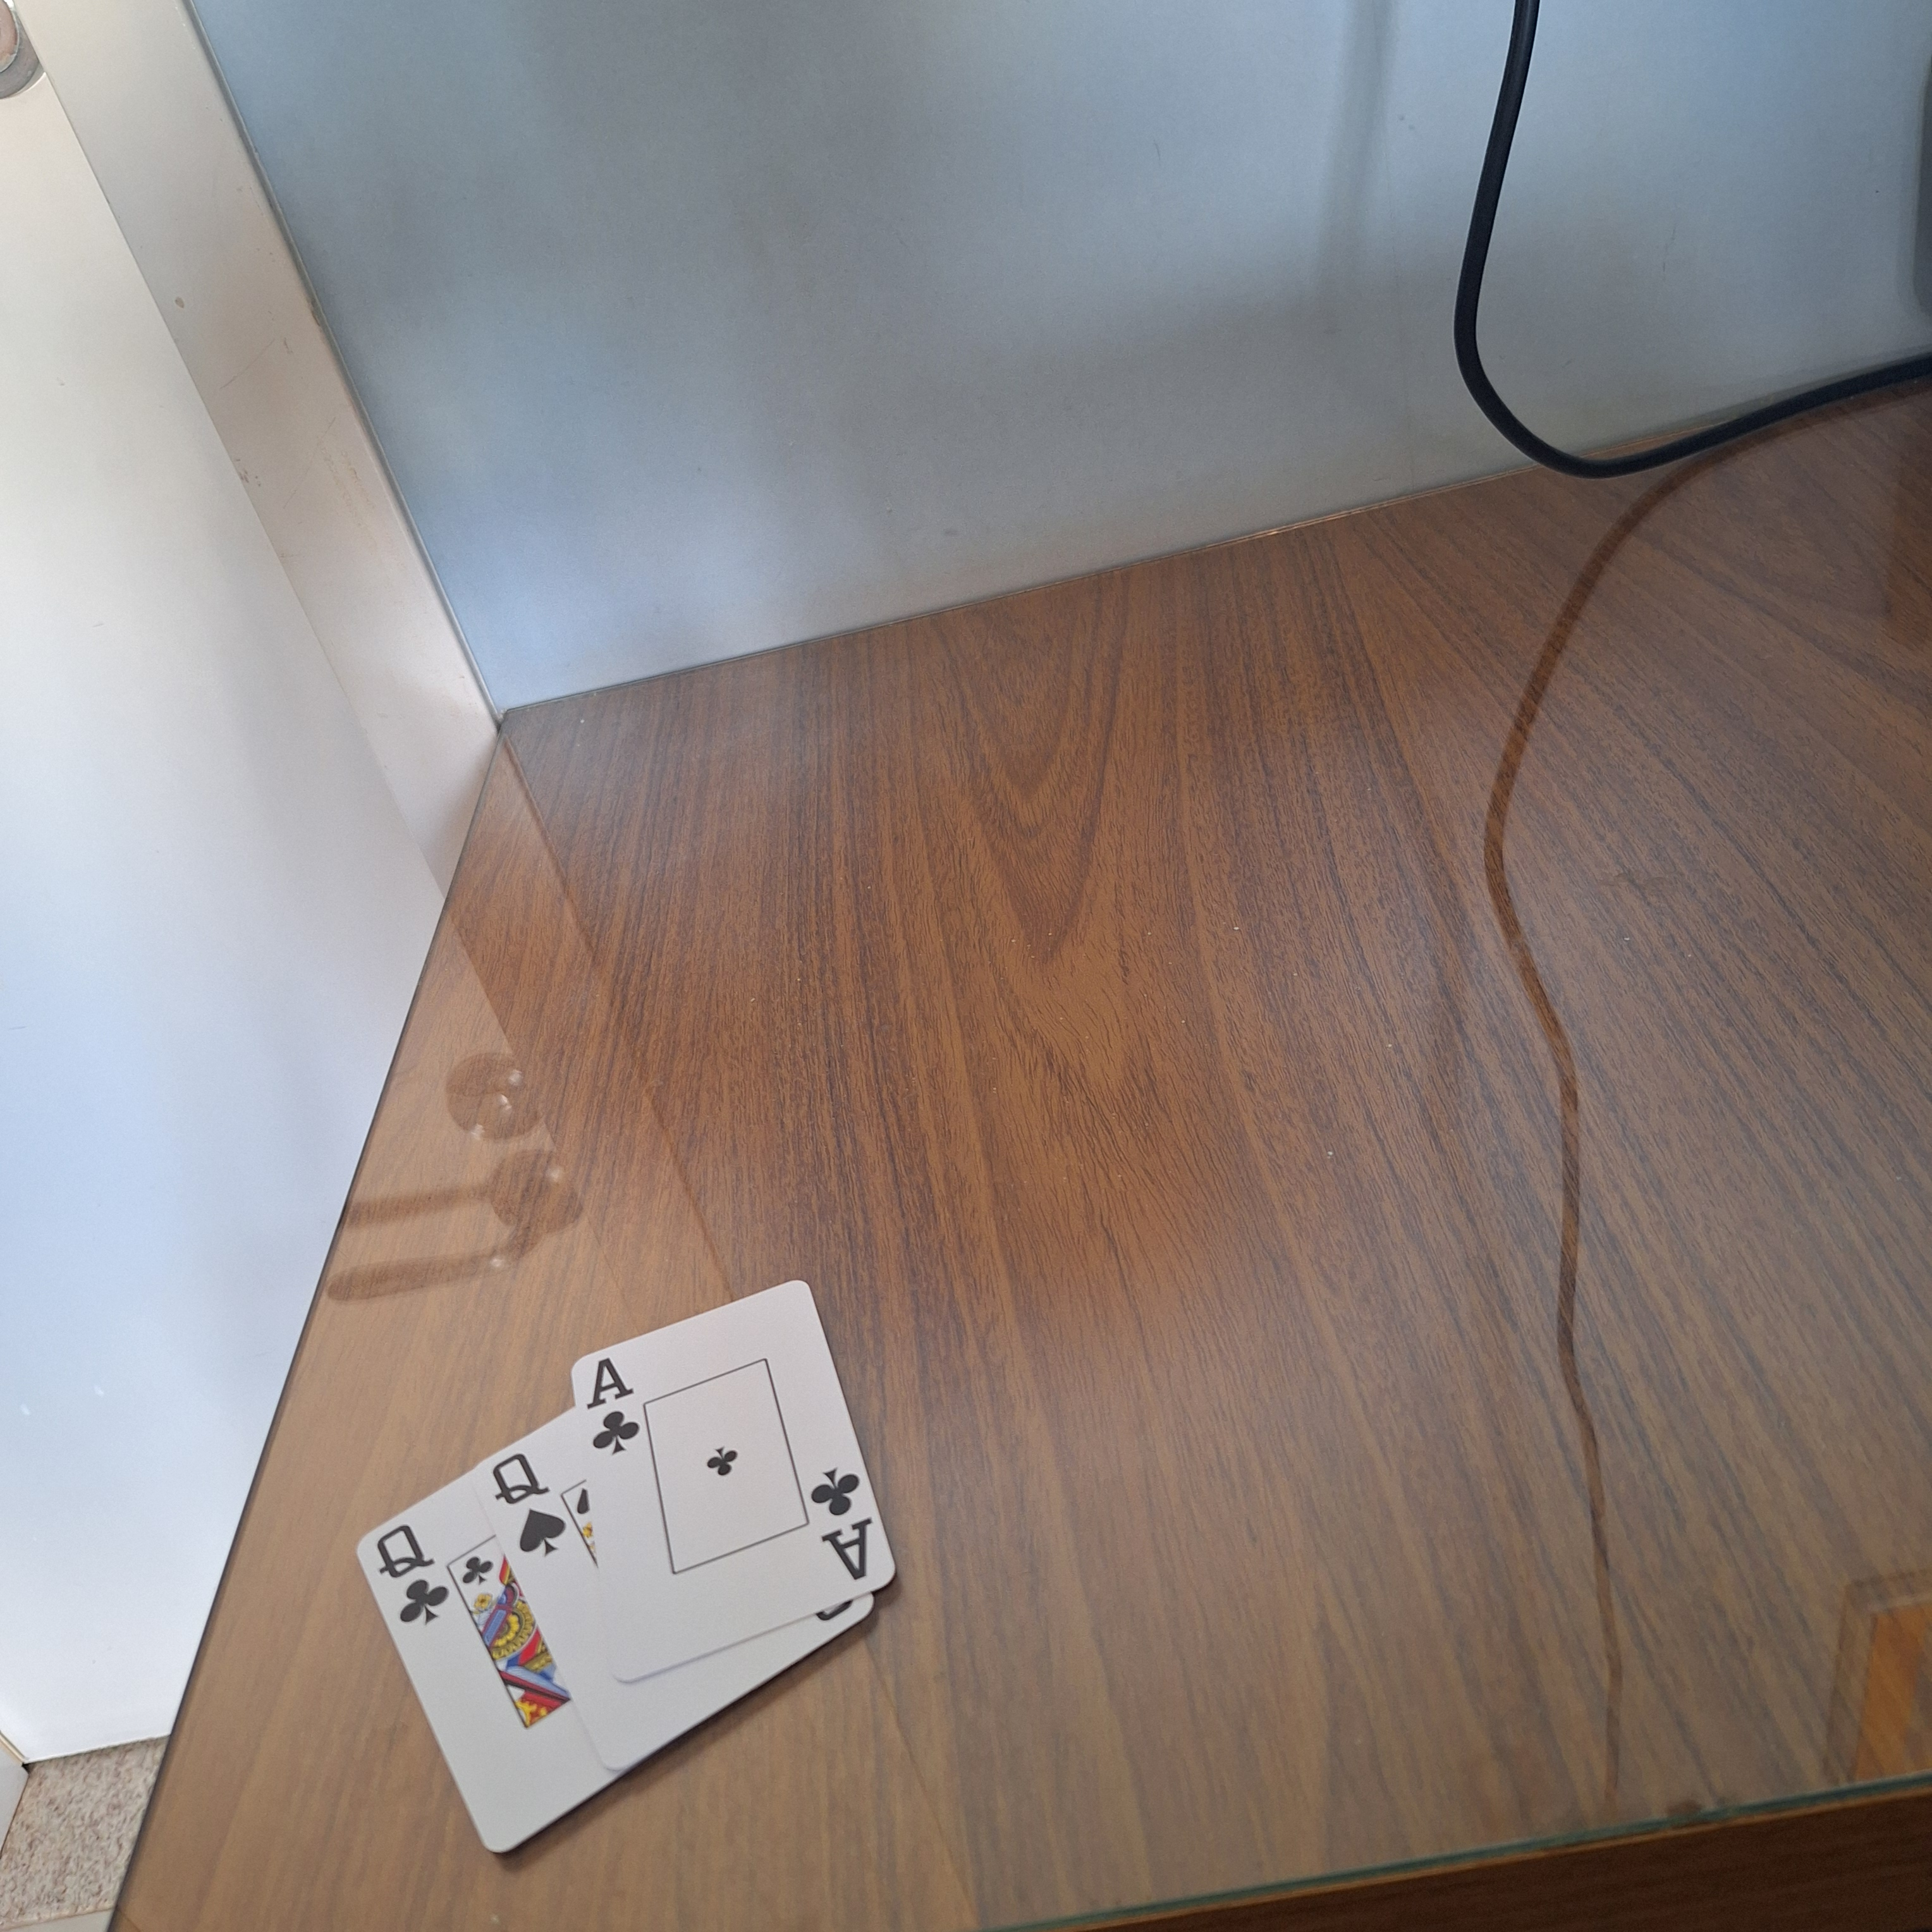AP: (803, 1460, 888, 1585), (579, 1352, 656, 1463)
QE: (487, 1449, 575, 1564)
QP: (364, 1516, 456, 1633)
